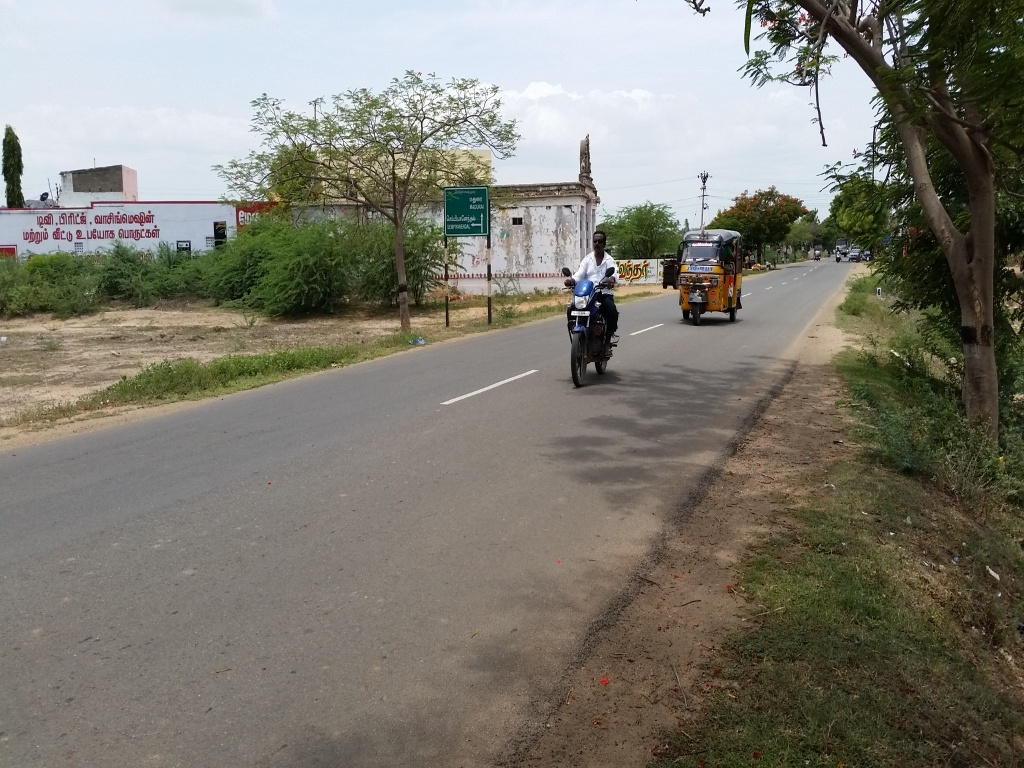biker: (545, 204, 651, 399)
nohelmet: (586, 220, 616, 265)
